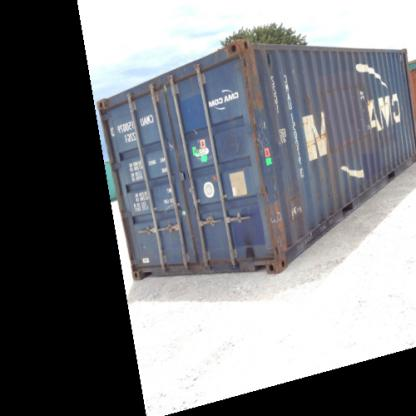Damage: (230, 37, 278, 169), (258, 182, 286, 269), (323, 125, 379, 149), (323, 153, 343, 217), (320, 78, 369, 94), (288, 190, 309, 225), (300, 124, 329, 146), (384, 148, 415, 168), (160, 129, 181, 158), (242, 228, 256, 262), (138, 239, 154, 267), (297, 87, 318, 105), (190, 119, 203, 140), (376, 94, 392, 107)
